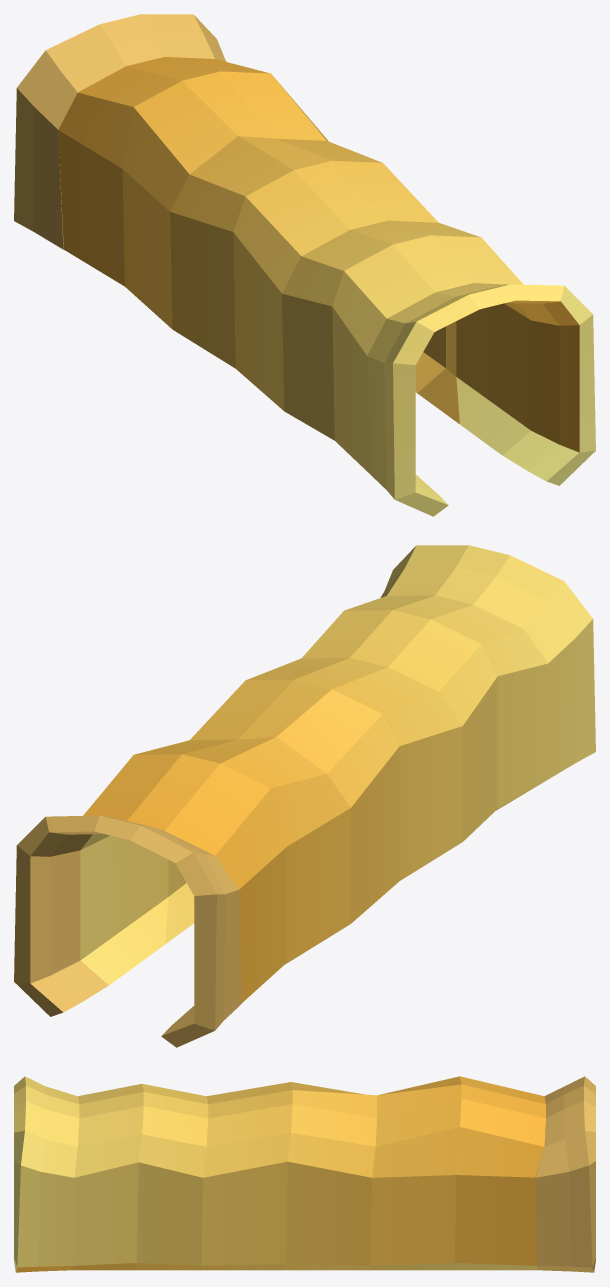
The model's file is copertura_corridoio 1.fbx.
3 views of the same model, one above another, from view 1: azimuth 30°, elevation 25°; view 2: azimuth 150°, elevation 25°; view 3: azimuth 270°, elevation 25° (orthographic). The views are drawn at different scales.
Parts seen in each view (by area): view 1: copertura_corridoio; view 2: copertura_corridoio; view 3: copertura_corridoio.
Part boxes in pixels (left/top/right/bottom): copertura_corridoio: left=14, top=14, right=595, bottom=516; copertura_corridoio: left=14, top=545, right=595, bottom=1047; copertura_corridoio: left=14, top=1076, right=595, bottom=1272.
Size of the model in its own units: 3306 by 3288 by 10972.
2 materials, 1 textured.
